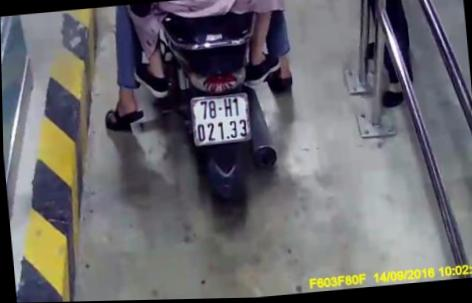LP: (190, 93, 252, 146)
